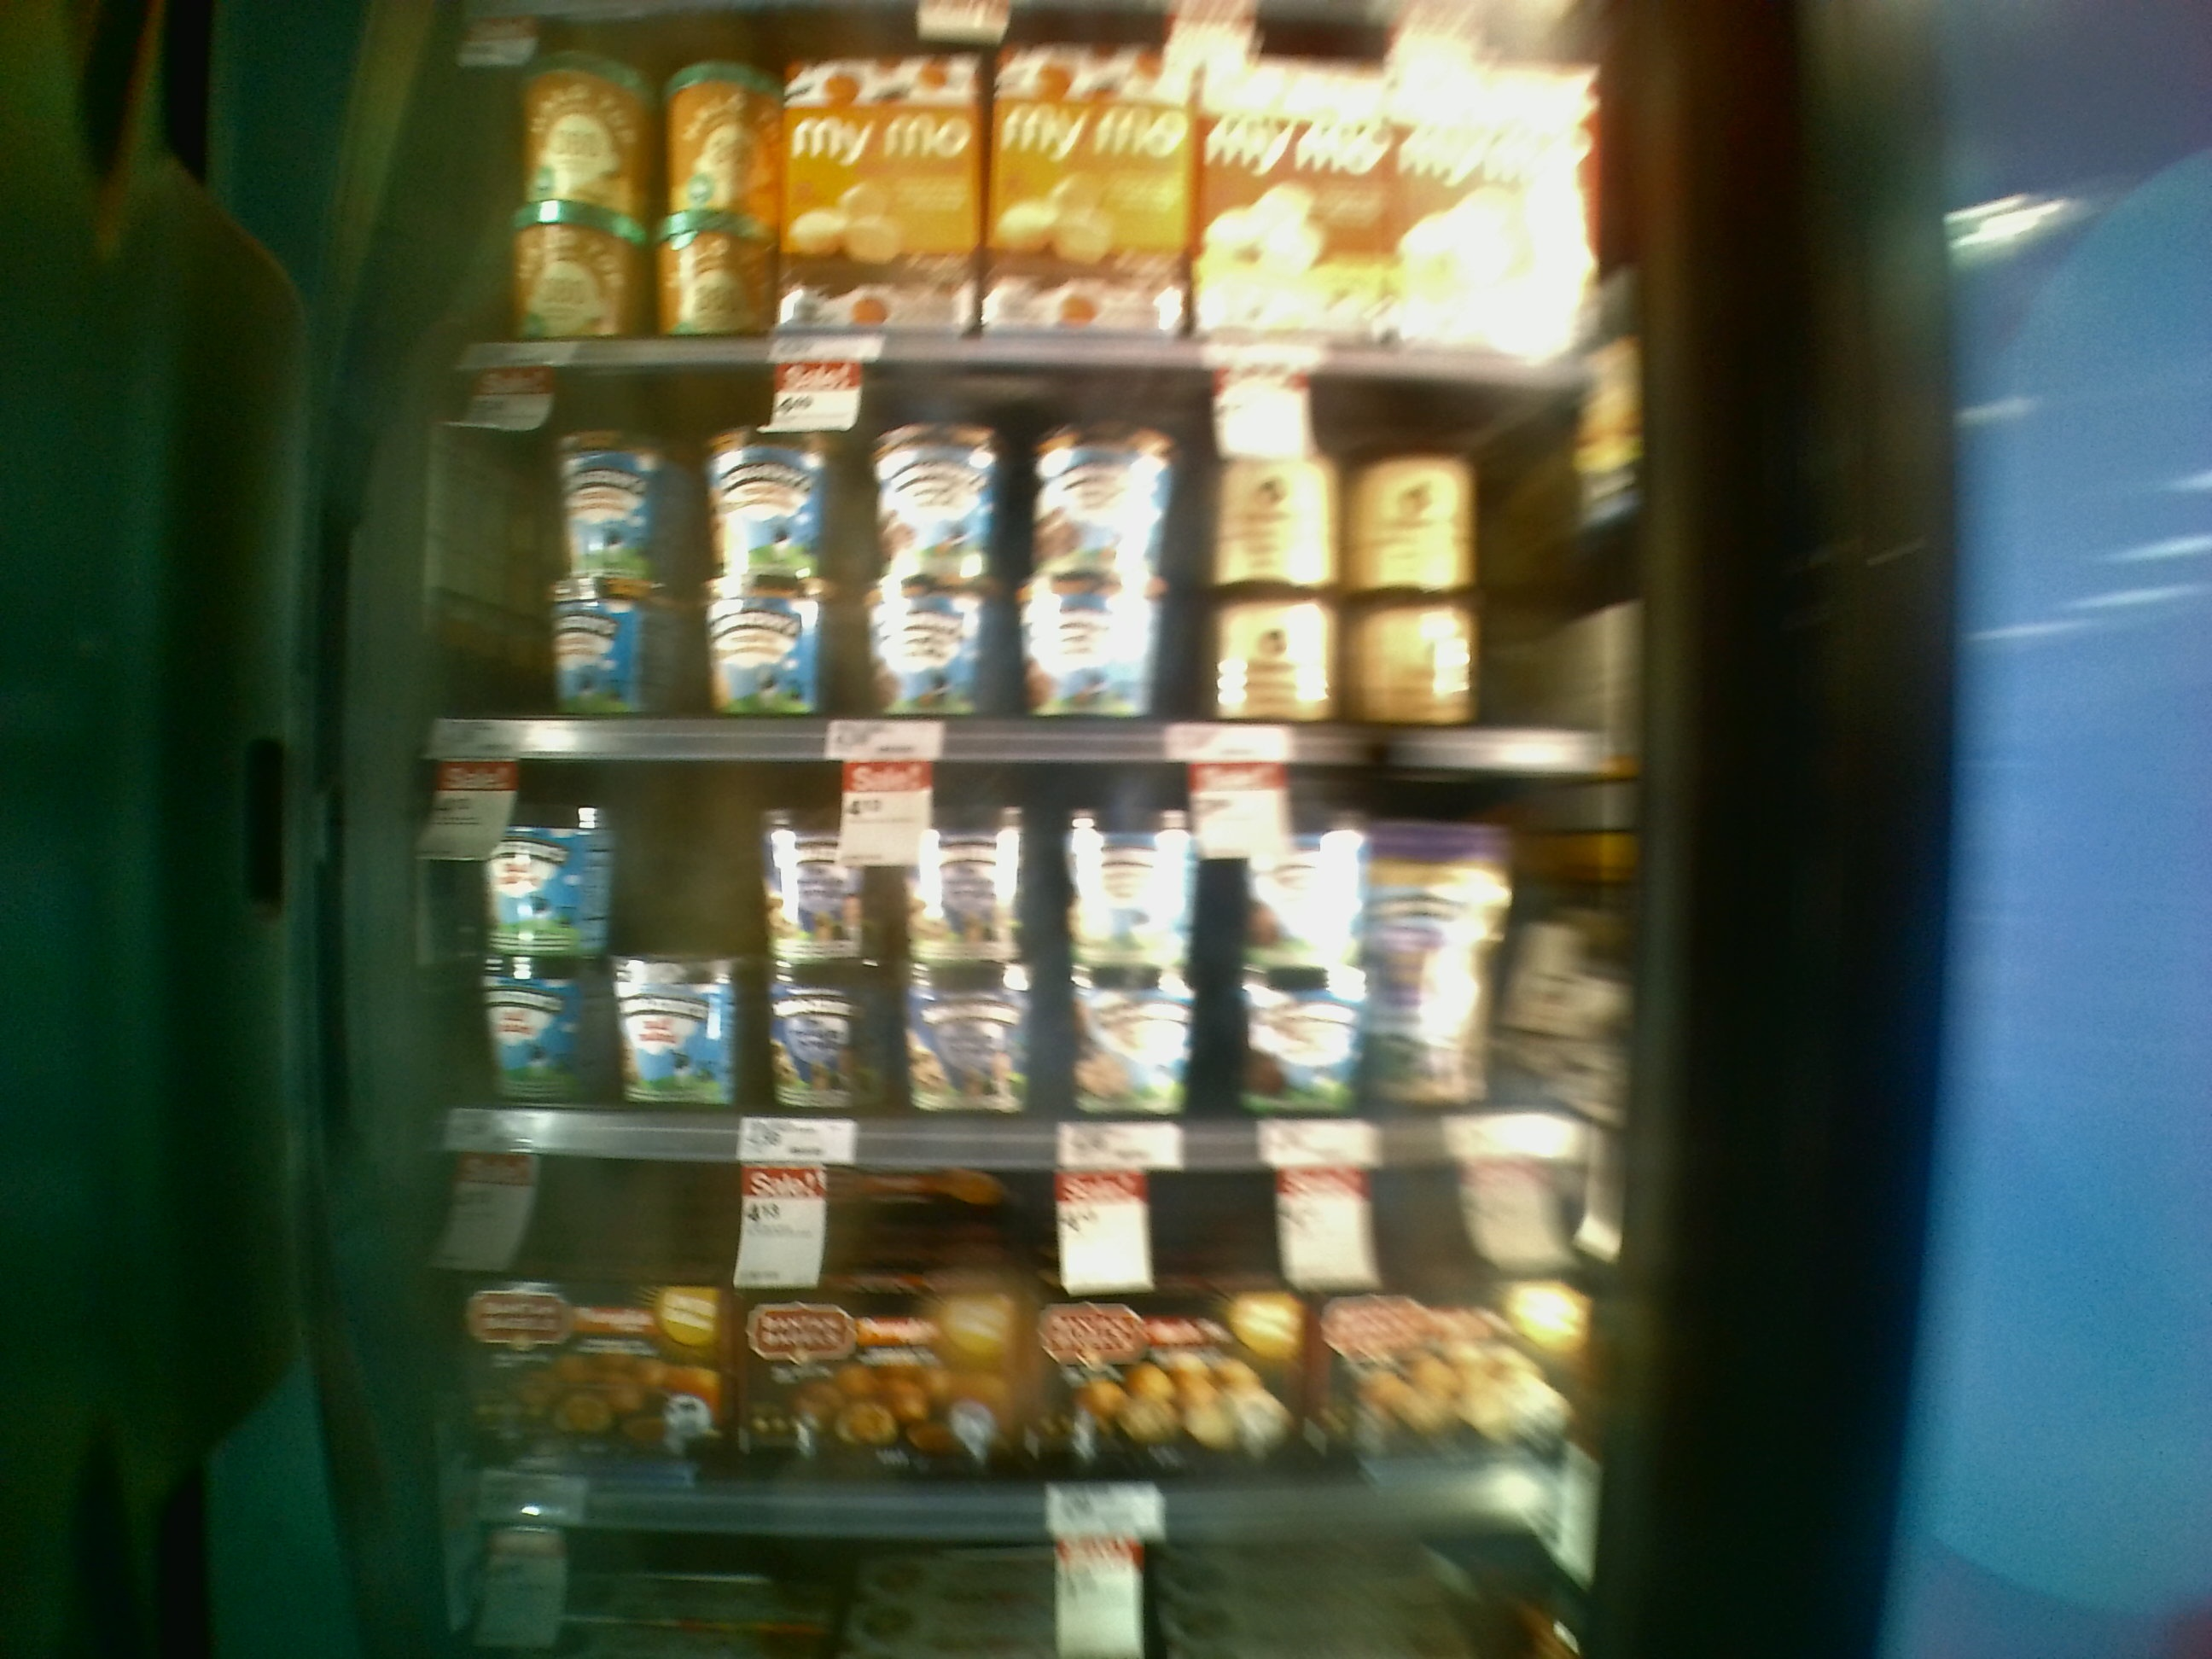shelf: (388, 748, 1641, 1166), (364, 1140, 1625, 1532), (441, 362, 1625, 769)
